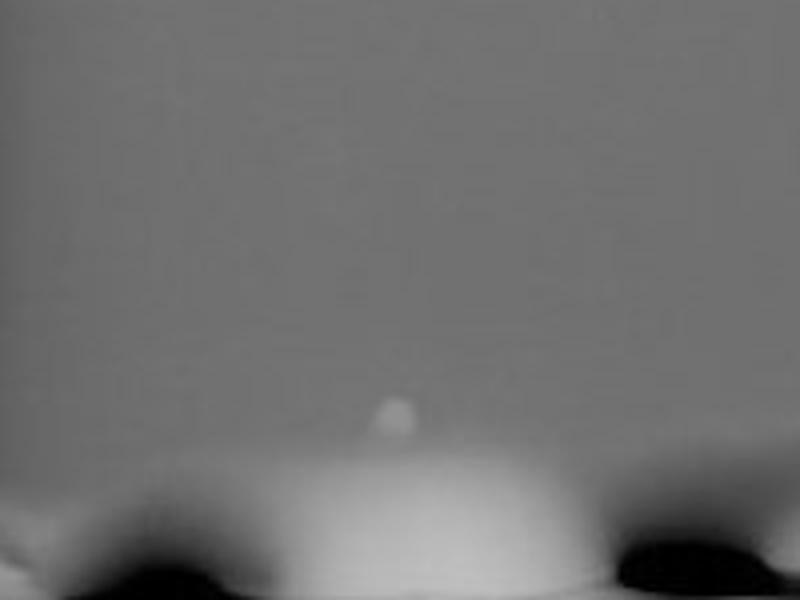defect: (616, 534, 795, 599), (70, 547, 255, 600)
